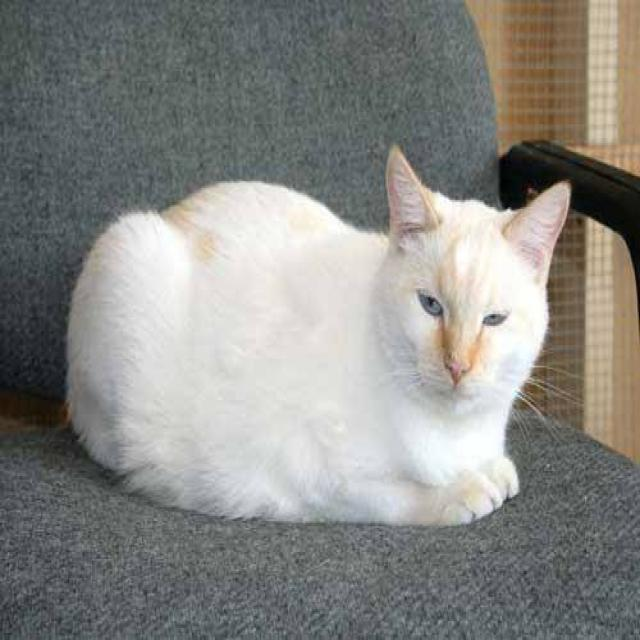cat: (62, 142, 581, 526)
